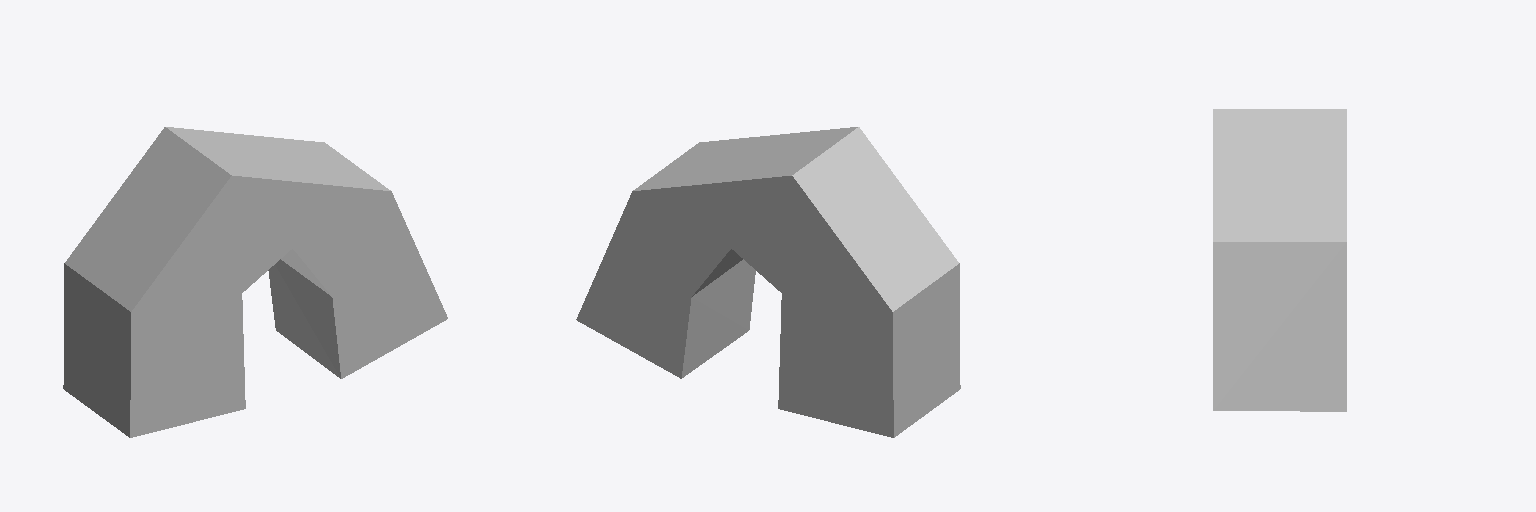
Rendered from Animation_000021.obj.
3 views of the same model, side by side, from view 1: azimuth 30°, elevation 25°; view 2: azimuth 150°, elevation 25°; view 3: azimuth 270°, elevation 25° (orthographic).
Visible parts, largest first — view 1: Cube; view 2: Cube; view 3: Cube.
Part boxes in pixels (left/top/right/bottom): Cube: left=63, top=127, right=447, bottom=437; Cube: left=576, top=127, right=960, bottom=437; Cube: left=1213, top=109, right=1346, bottom=411.
Bounding box in the file's own units: 3.67 × 2.62 × 1.33.